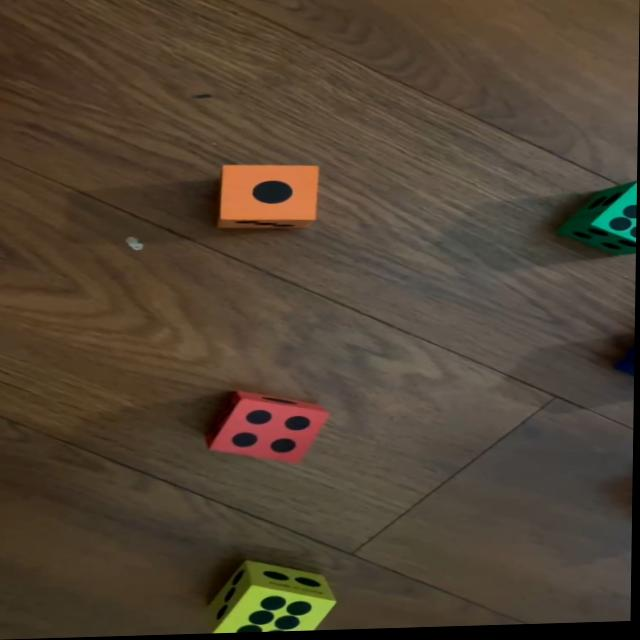cube: (207, 391, 331, 468), (559, 185, 638, 262)
